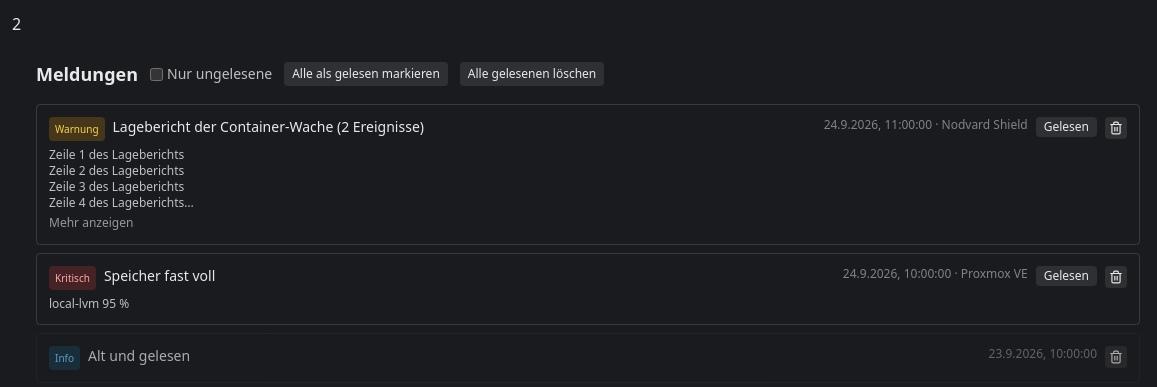
Test case: NotificationsPage › löscht eine Meldung einzeln ohne Rückfrage, die Liste und der Zähler stimmen danach
The image size is (1157, 387).
Expected: the text with test id "unread-probe" reads "2", [12,13,21,35]
What coordinates should you click on to do the following:
click the button named "Meldung „Lagebericht der Container-Wache (2 Ereignisse)“ löschen"
I would click on:
 (1116, 128)
Its box is [1105,117,1127,139].
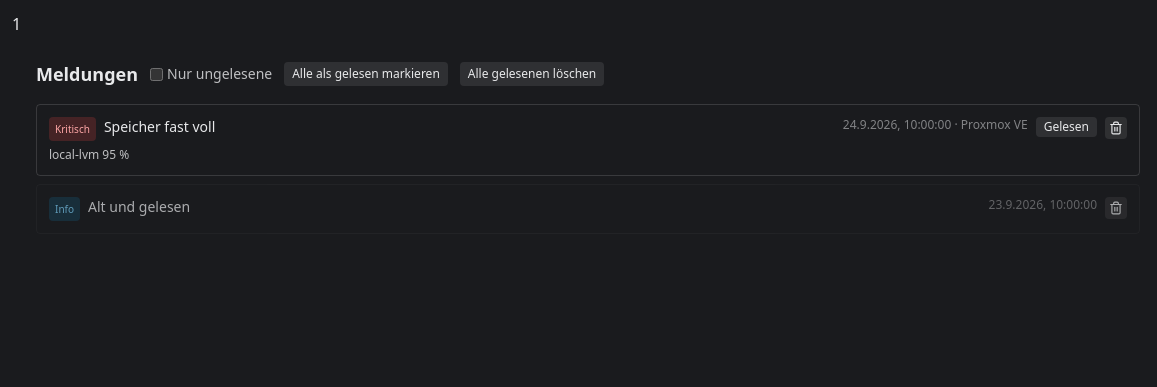
Expected: the list item with test id "notification-n2" is shown, [36,104,1140,176]
Expected: the list item with test id "notification-n1" is gone
Expected: the text with test id "unread-probe" reads "1", [12,13,21,35]
